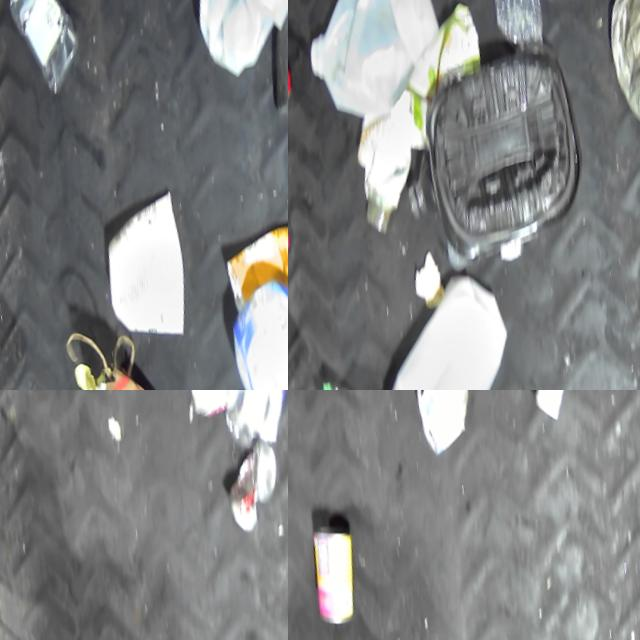can: (306, 505, 382, 632), (226, 436, 288, 534), (288, 29, 308, 127)
milk_jug: (362, 263, 552, 390), (292, 0, 453, 123), (176, 0, 288, 81)
non_white_jug: (209, 390, 288, 452)
plastic_bottle: (0, 0, 97, 100), (477, 0, 556, 60)
